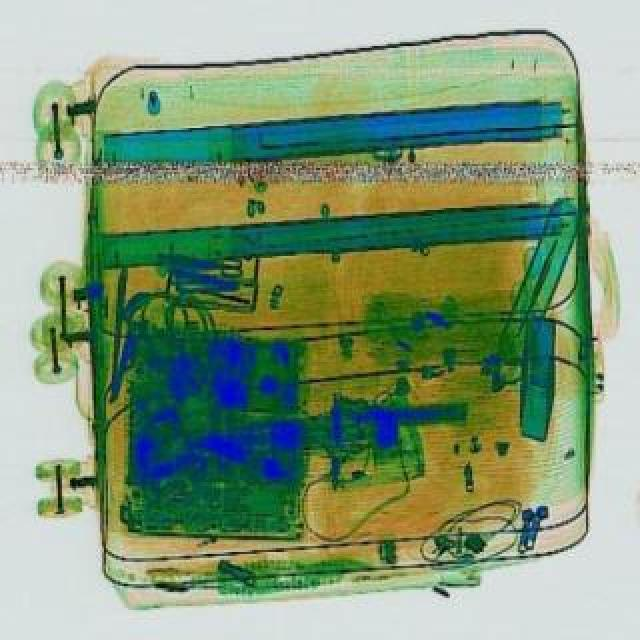pliers: (190, 250, 246, 276)
